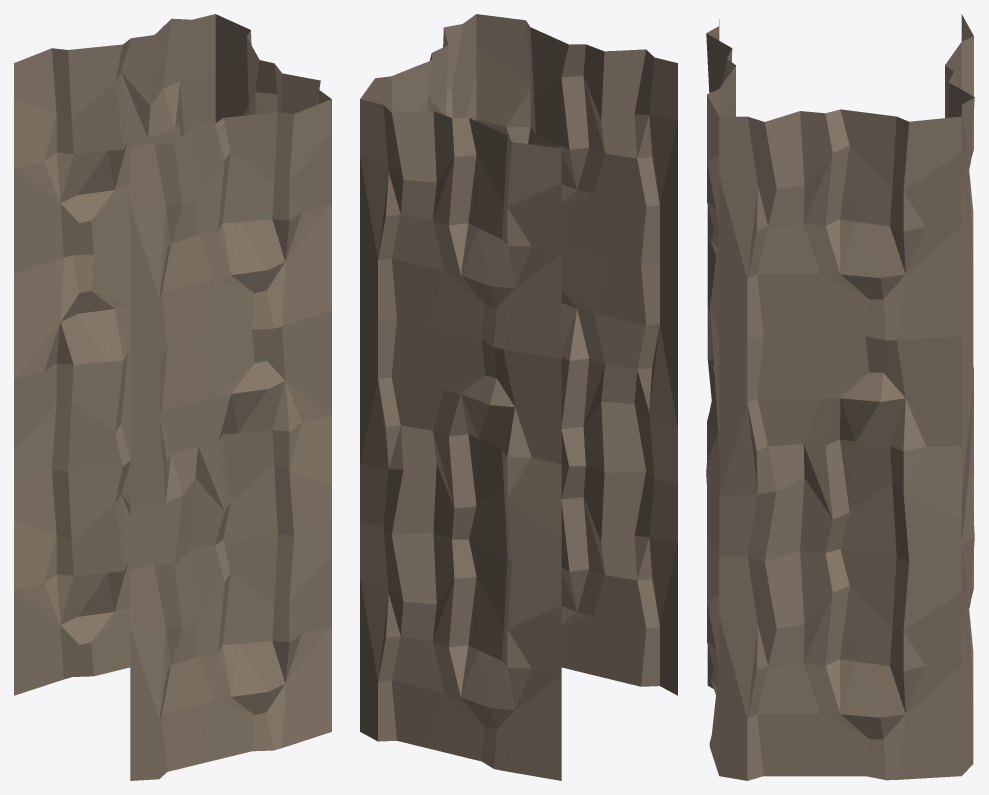
File: ER_Terrain_3x1_Dirt_3SidedInverted_001_A.fbx
3 renders of one model, left to right at view 1: azimuth 30°, elevation 25°; view 2: azimuth 150°, elevation 25°; view 3: azimuth 270°, elevation 25°, orthographic. The views are drawn at different scales.
Visible parts, largest first — view 1: ER_Terrain_3x1_Dirt_3SidedInverted_001_A; view 2: ER_Terrain_3x1_Dirt_3SidedInverted_001_A; view 3: ER_Terrain_3x1_Dirt_3SidedInverted_001_A.
Boxes of the visible parts, x1,y1,x2,y2 form: ER_Terrain_3x1_Dirt_3SidedInverted_001_A: (14, 14, 331, 780); ER_Terrain_3x1_Dirt_3SidedInverted_001_A: (360, 14, 677, 780); ER_Terrain_3x1_Dirt_3SidedInverted_001_A: (706, 14, 974, 780).
Size of the model in its own units: 1.05 by 3 by 1.11.
